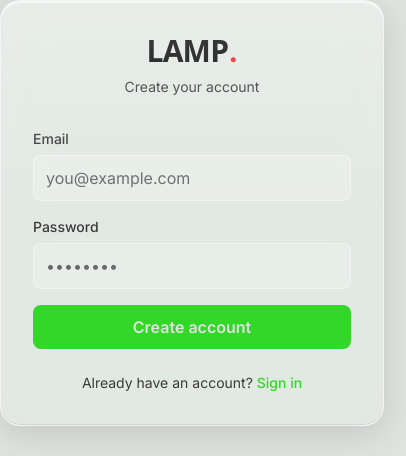
it: AuthForm › Signup mode › shows confirmation message after signup with email confirmation
Type "new@test.com" into the field labelled "Email" at x=192, y=178, box [33,155,351,201]
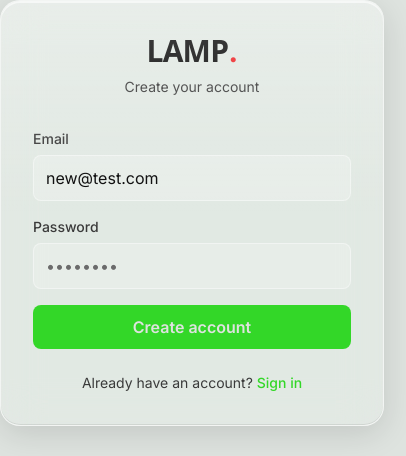
Type "password123" into the password field labelled "Password" at x=192, y=266, box [33,243,351,289]
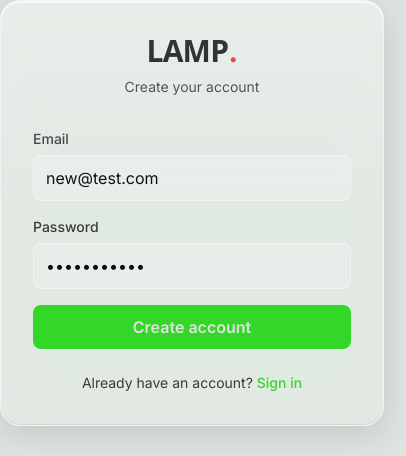
Click the button "Create account" at x=192, y=327, box [33,305,351,349]
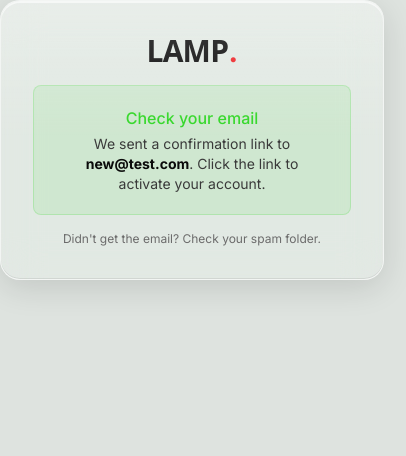
Result: the text "Check your email" is shown at [126,108,258,128]
Result: the text "new@test.com" is shown at [86,155,189,172]
